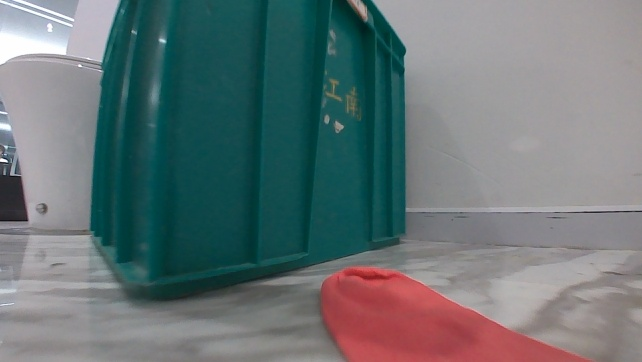socks: (319, 261, 601, 361)
toilet: (0, 49, 106, 234)
